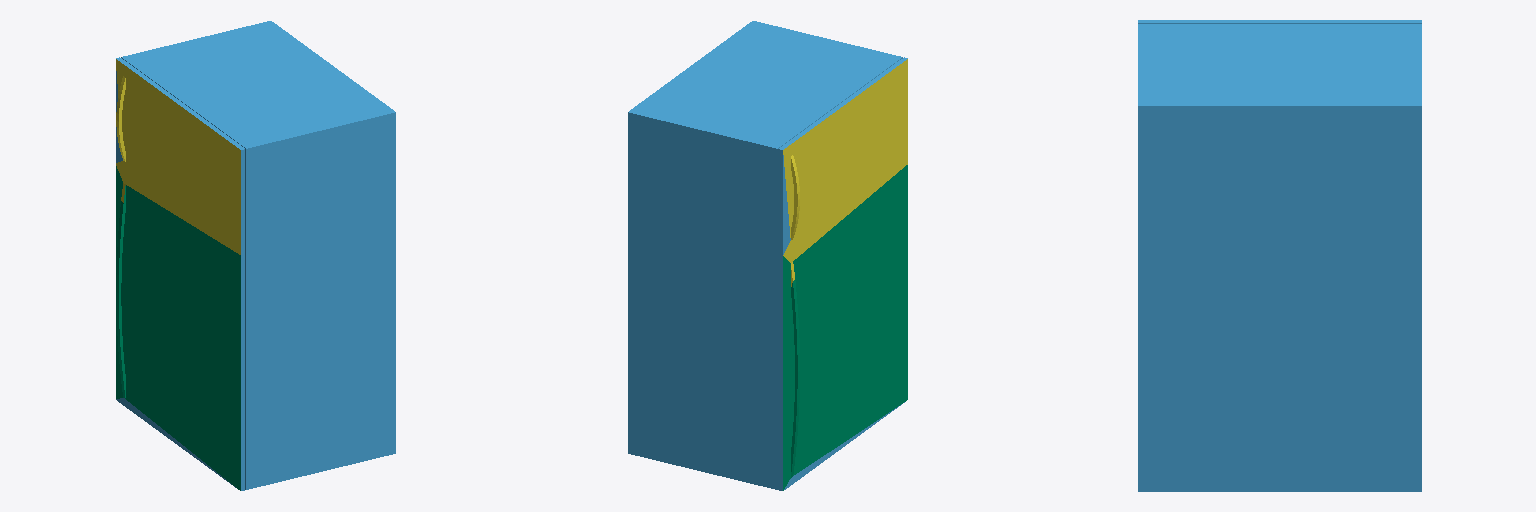
robot.urdf — partnet_454032e47ff1280c95bea7c29e873d16:
<?xml version="1.0" ?>
<robot name="partnet_454032e47ff1280c95bea7c29e873d16">
	<link name="base"/>
	<link name="link_0">
		<visual name="frame-7">
			<origin xyz="0 0 0"/>
			<geometry>
				<mesh filename="textured_objs/new-5.obj"/>
			</geometry>
		</visual>
		<visual name="frame-7">
			<origin xyz="0 0 0"/>
			<geometry>
				<mesh filename="textured_objs/new-0.obj"/>
			</geometry>
		</visual>
		<collision>
			<origin xyz="0 0 0"/>
			<geometry>
				<mesh filename="textured_objs/new-5.obj"/>
			</geometry>
		</collision>
		<collision>
			<origin xyz="0 0 0"/>
			<geometry>
				<mesh filename="textured_objs/new-0.obj"/>
			</geometry>
		</collision>
	</link>
	<joint name="joint_0" type="fixed">
		<origin rpy="1.570796326794897 0 -1.570796326794897" xyz="0 0 0"/>
		<child link="link_0"/>
		<parent link="base"/>
	</joint>
	<link name="link_1">
		<visual name="door_frame-12">
			<origin xyz="-0.5243458088817847 -0.7835690000000002 -0.3637486649190118"/>
			<geometry>
				<mesh filename="textured_objs/new-3.obj"/>
			</geometry>
		</visual>
		<visual name="handle-13">
			<origin xyz="-0.5243458088817847 -0.7835690000000002 -0.3637486649190118"/>
			<geometry>
				<mesh filename="textured_objs/new-2.obj"/>
			</geometry>
		</visual>
		<collision>
			<origin xyz="-0.5243458088817847 -0.7835690000000002 -0.3637486649190118"/>
			<geometry>
				<mesh filename="textured_objs/new-3.obj"/>
			</geometry>
		</collision>
		<collision>
			<origin xyz="-0.5243458088817847 -0.7835690000000002 -0.3637486649190118"/>
			<geometry>
				<mesh filename="textured_objs/new-2.obj"/>
			</geometry>
		</collision>
	</link>
	<joint name="joint_1" type="fixed">
		<origin xyz="0.5243458088817847 0.7835690000000002 0.3637486649190118"/>
		<axis xyz="0 1 0"/>
		<child link="link_1"/>
		<parent link="link_0"/>
		<limit lower="-0.0" upper="3.141592653589793"/>
	</joint>
	<link name="link_2">
		<visual name="door_frame-10">
			<origin xyz="-0.5243458088817847 -0.7835690000000002 -0.3637486649190118"/>
			<geometry>
				<mesh filename="textured_objs/new-4.obj"/>
			</geometry>
		</visual>
		<visual name="handle-11">
			<origin xyz="-0.5243458088817847 -0.7835690000000002 -0.3637486649190118"/>
			<geometry>
				<mesh filename="textured_objs/new-1.obj"/>
			</geometry>
		</visual>
		<collision>
			<origin xyz="-0.5243458088817847 -0.7835690000000002 -0.3637486649190118"/>
			<geometry>
				<mesh filename="textured_objs/new-4.obj"/>
			</geometry>
		</collision>
		<collision>
			<origin xyz="-0.5243458088817847 -0.7835690000000002 -0.3637486649190118"/>
			<geometry>
				<mesh filename="textured_objs/new-1.obj"/>
			</geometry>
		</collision>
	</link>
	<joint name="joint_2" type="revolute">
		<origin xyz="0.5243458088817847 0.7835690000000002 0.3637486649190118"/>
		<axis xyz="0 1 0"/>
		<child link="link_2"/>
		<parent link="link_0"/>
		<limit lower="-0.0" upper="3.141592653589793"/>
	</joint>
</robot>

--- What the picture shows (computed from the rendered views, not written in the file) ---
The picture shows the robot from 3 angles, left to right: view 1: azimuth 30°, elevation 25°; view 2: azimuth 150°, elevation 25°; view 3: azimuth 270°, elevation 25°; orthographic projection.
Robot: partnet_454032e47ff1280c95bea7c29e873d16 — 4 links, 3 joints (1 revolute, 2 fixed); root link base; default pose: every joint at zero.
Links seen in each view (by area): view 1: link_0, link_1, link_2; view 2: link_0, link_1, link_2; view 3: link_0.
Link boxes in pixels (bbox=[...]): link_0: bbox=[116, 21, 395, 490]; link_1: bbox=[116, 166, 240, 490]; link_2: bbox=[116, 59, 240, 254]; link_0: bbox=[628, 21, 907, 490]; link_1: bbox=[783, 165, 907, 490]; link_2: bbox=[783, 59, 907, 286]; link_0: bbox=[1138, 20, 1421, 491].
Bounding box of the posed robot: 0.777 × 1.04 × 1.56 m (x, y, z).
Meshes: 6 distinct files referenced, 6 mesh visuals loaded (6 OBJ).